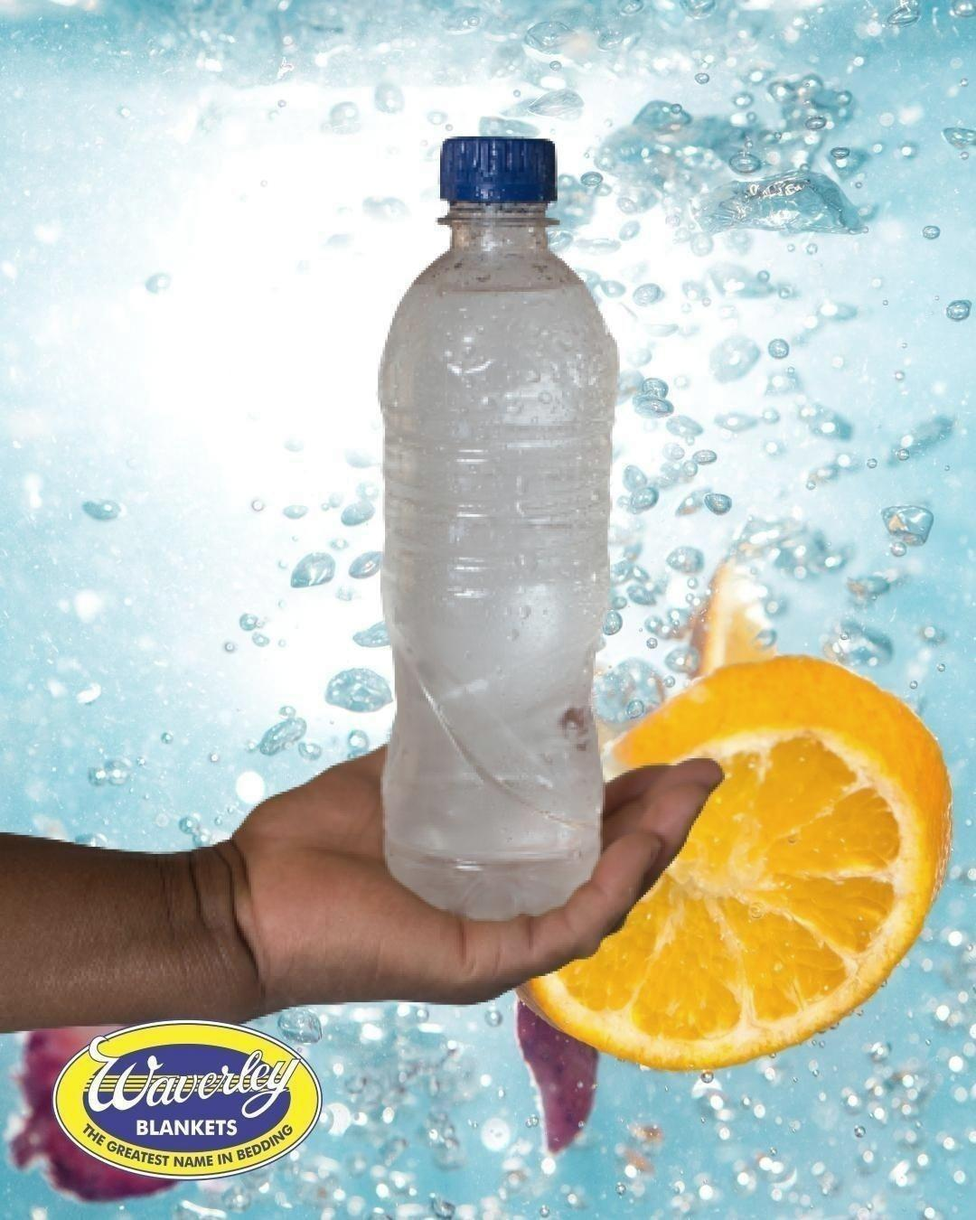bottle-plastic: (364, 117, 633, 934)
